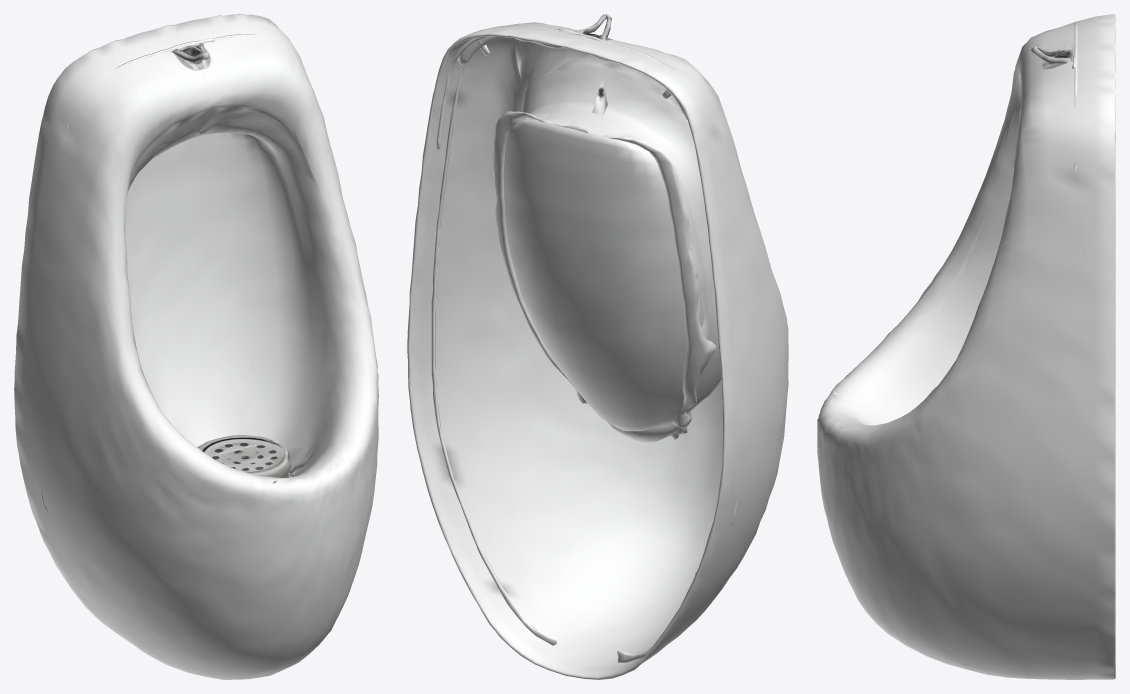
The model's file is Meshy_AI_Minimalist_White_Urin_0501013852_texture.obj.
The picture shows the model from 3 angles, left to right: view 1: azimuth 30°, elevation 25°; view 2: azimuth 150°, elevation 25°; view 3: azimuth 270°, elevation 25°; orthographic projection. The views are drawn at different scales.
Parts seen in each view (by area): view 1: Meshy_AI_Minimalist_White_Urin_0501013852_texture; view 2: Meshy_AI_Minimalist_White_Urin_0501013852_texture; view 3: Meshy_AI_Minimalist_White_Urin_0501013852_texture.
Boxes of the visible parts, left/top/right/bottom form: Meshy_AI_Minimalist_White_Urin_0501013852_texture: left=14, top=14, right=378, bottom=679; Meshy_AI_Minimalist_White_Urin_0501013852_texture: left=407, top=14, right=788, bottom=679; Meshy_AI_Minimalist_White_Urin_0501013852_texture: left=817, top=14, right=1115, bottom=679.
Size of the model in its own units: 0.998 by 1.9 by 0.8258.
Materials: 1 (1 with a texture image).
